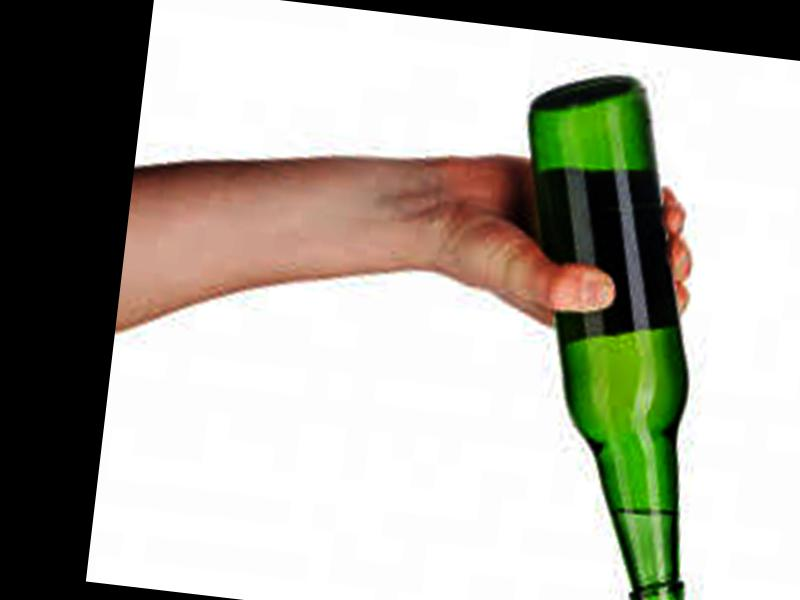Beer: (471, 65, 749, 600)
